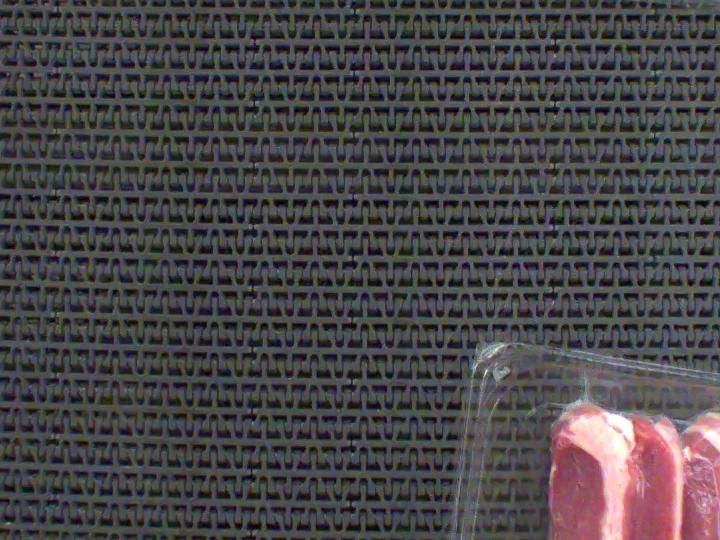packaging-error: (567, 372, 622, 423), (692, 378, 720, 425)
unsealed: (548, 398, 720, 512)
